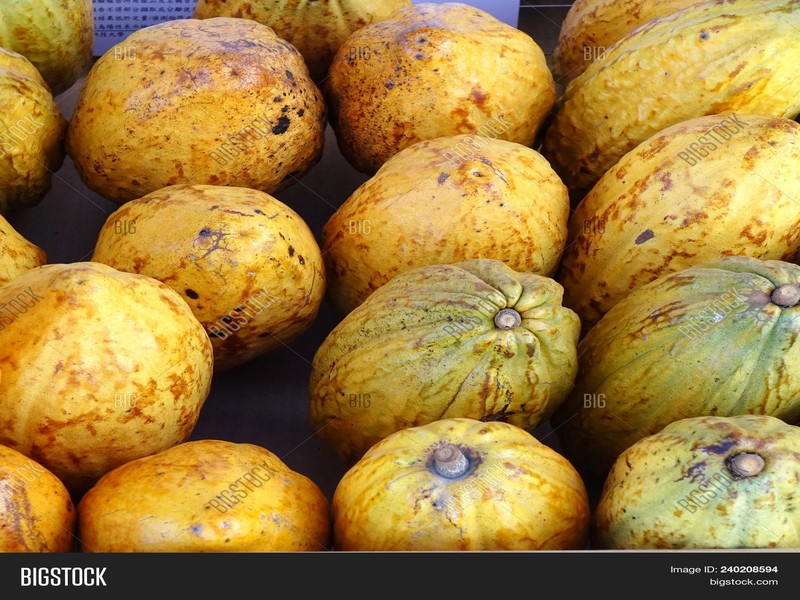Cacaopod: (305, 259, 578, 458)
